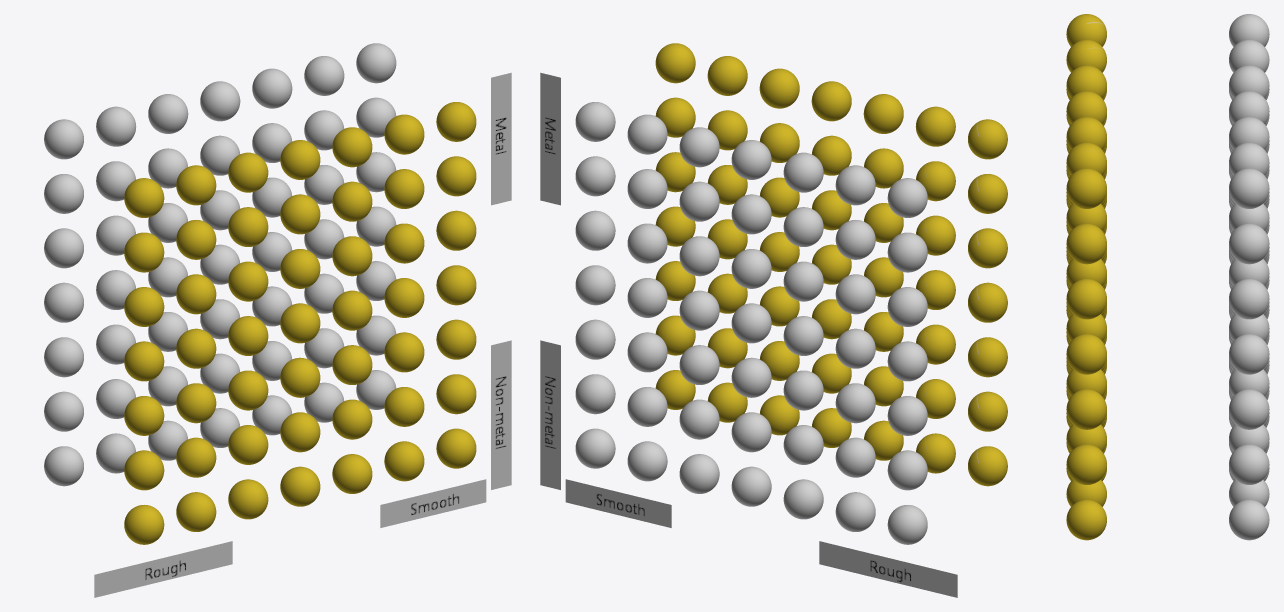
The model's file is MetalRoughSpheres.gltf.
3 renders of one model, left to right at view 1: azimuth 30°, elevation 25°; view 2: azimuth 150°, elevation 25°; view 3: azimuth 270°, elevation 25°, orthographic.
Visible parts, largest first — view 1: Labels, M(1, 0) (×2), M(2, 0) (×2), M(0, 0) (×2), M(5, 0) (×2), M(6, 2) (×2), M(3, 0) (×2), M(6, 5) (×2), M(6, 0) (×2), M(4, 0) (×2), M(6, 4) (×2), M(6, 6) (×2) (+38 smaller); view 2: Labels, M(1, 0) (×2), M(2, 0) (×2), M(0, 0) (×2), M(5, 0) (×2), M(6, 2) (×2), M(3, 0) (×2), M(6, 5) (×2), M(6, 0) (×2), M(4, 0) (×2), M(6, 4) (×2), M(6, 6) (×2) (+38 smaller); view 3: M(0, 1) (×2), M(0, 3) (×2), M(0, 4) (×2), M(0, 5) (×2), M(0, 6) (×2), M(0, 0) (×2), M(0, 2) (×2), M(4, 0) (×2), M(5, 0) (×2), M(1, 0) (×2), M(3, 0) (×2), M(6, 0) (×2) (+7 smaller).
Part boxes in pixels (bbox=[...]): Labels: bbox=[94, 72, 511, 597]; M(1, 0) (×2): bbox=[304, 56, 424, 154]; M(2, 0) (×2): bbox=[252, 68, 372, 167]; M(0, 0) (×2): bbox=[356, 43, 476, 141]; M(5, 0) (×2): bbox=[96, 106, 216, 205]; M(6, 2) (×2): bbox=[44, 228, 164, 326]; M(3, 0) (×2): bbox=[200, 81, 320, 179]; M(6, 5) (×2): bbox=[44, 391, 164, 490]; M(6, 0) (×2): bbox=[44, 119, 164, 217]; M(4, 0) (×2): bbox=[148, 94, 268, 192]; M(6, 4) (×2): bbox=[44, 337, 164, 435]; M(6, 6) (×2): bbox=[44, 446, 164, 544]; Labels: bbox=[540, 72, 957, 597]; M(1, 0) (×2): bbox=[627, 56, 747, 154]; M(2, 0) (×2): bbox=[679, 68, 799, 167]; M(0, 0) (×2): bbox=[575, 43, 695, 141]; M(5, 0) (×2): bbox=[835, 106, 955, 205]; M(6, 2) (×2): bbox=[887, 228, 1007, 326]; M(3, 0) (×2): bbox=[731, 81, 851, 179]; M(6, 5) (×2): bbox=[887, 391, 1007, 490]; M(6, 0) (×2): bbox=[887, 119, 1007, 217]; M(4, 0) (×2): bbox=[783, 94, 903, 192]; M(6, 4) (×2): bbox=[887, 337, 1007, 435]; M(6, 6) (×2): bbox=[887, 446, 1007, 544]; M(0, 1) (×2): bbox=[1066, 223, 1269, 264]; M(0, 3) (×2): bbox=[1066, 334, 1269, 374]; M(0, 4) (×2): bbox=[1066, 389, 1269, 429]; M(0, 5) (×2): bbox=[1066, 444, 1269, 484]; M(0, 6) (×2): bbox=[1066, 499, 1269, 540]; M(0, 0) (×2): bbox=[1066, 168, 1269, 208]; M(0, 2) (×2): bbox=[1066, 279, 1269, 319]; M(4, 0) (×2): bbox=[1066, 65, 1269, 98]; M(5, 0) (×2): bbox=[1066, 39, 1269, 72]; M(1, 0) (×2): bbox=[1066, 142, 1269, 175]; M(3, 0) (×2): bbox=[1066, 91, 1269, 123]; M(6, 0) (×2): bbox=[1066, 14, 1269, 46].
Bounding box in the file's own units: 9.62 × 9.33 × 4.
1 material, 1 textured.
